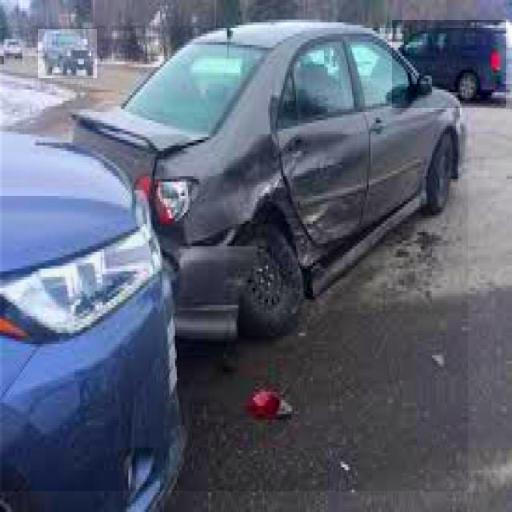小汽车: (392, 20, 506, 108), (38, 29, 97, 78)
小汽车撞小汽车: (2, 26, 468, 491)
